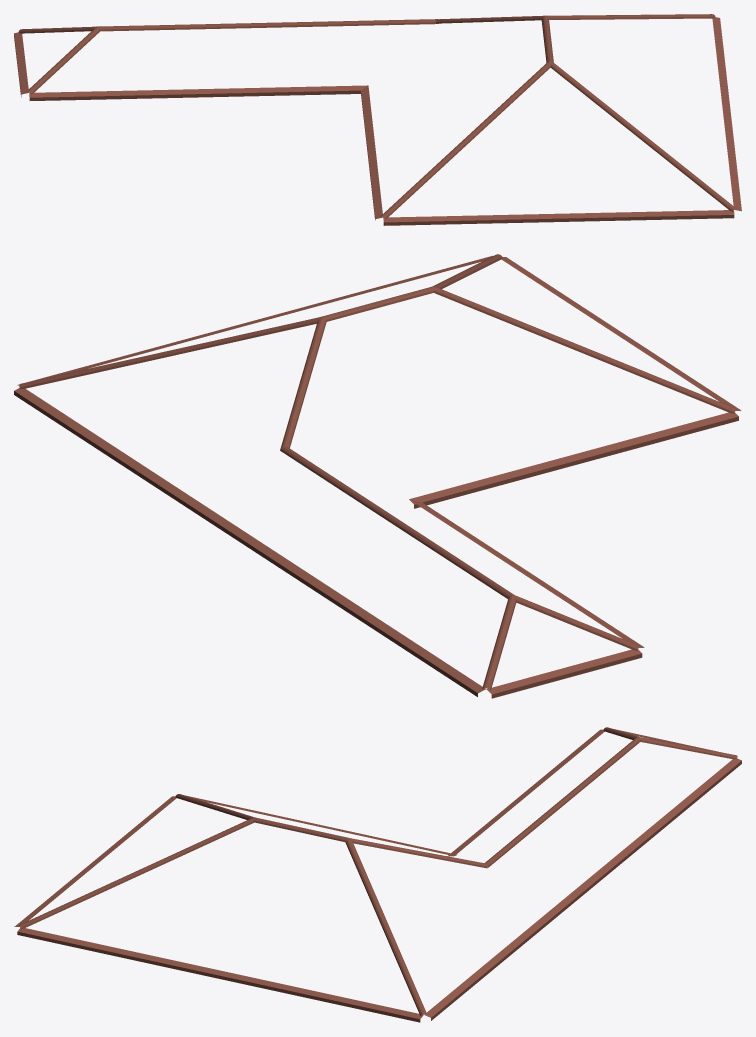
3 renders of one model, top to bottom at view 1: azimuth 30°, elevation 25°; view 2: azimuth 150°, elevation 25°; view 3: azimuth 270°, elevation 25°, orthographic. The views are drawn at different scales.
Parts seen in each view (by area): view 1: detail; view 2: detail; view 3: detail.
Boxes of the visible parts, x1,y1,x2,y2 form: detail: (14, 14, 741, 225); detail: (14, 254, 741, 698); detail: (14, 727, 741, 1022).
Bounding box in the file's own units: 28 × 3.83 × 29.6.
